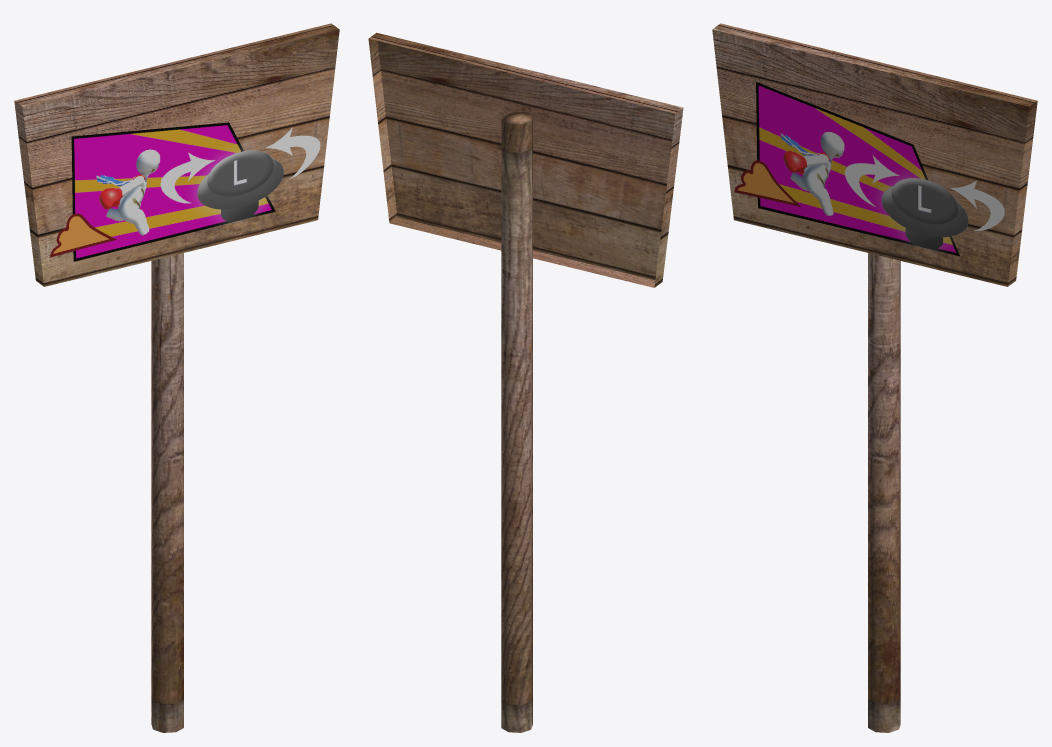
The model's file is Signborad.fbx.
3 renders of one model, left to right at view 1: azimuth 30°, elevation 25°; view 2: azimuth 150°, elevation 25°; view 3: azimuth 330°, elevation 25°, orthographic. The views are drawn at different scales.
Parts seen in each view (by area): view 1: pCube1, pPlane1, pCylinder1; view 2: pCube1, pCylinder1; view 3: pCube1, pPlane1, pCylinder1.
Part boxes in pixels (bbox=[...]): pCube1: bbox=[14, 23, 339, 286]; pPlane1: bbox=[50, 122, 320, 261]; pCylinder1: bbox=[151, 253, 183, 732]; pCube1: bbox=[368, 32, 683, 287]; pCylinder1: bbox=[501, 111, 532, 732]; pCube1: bbox=[712, 23, 1037, 286]; pPlane1: bbox=[734, 82, 1004, 256]; pCylinder1: bbox=[868, 253, 900, 732].
Bounding box in the file's own units: 3.48 × 7.22 × 0.4664.
